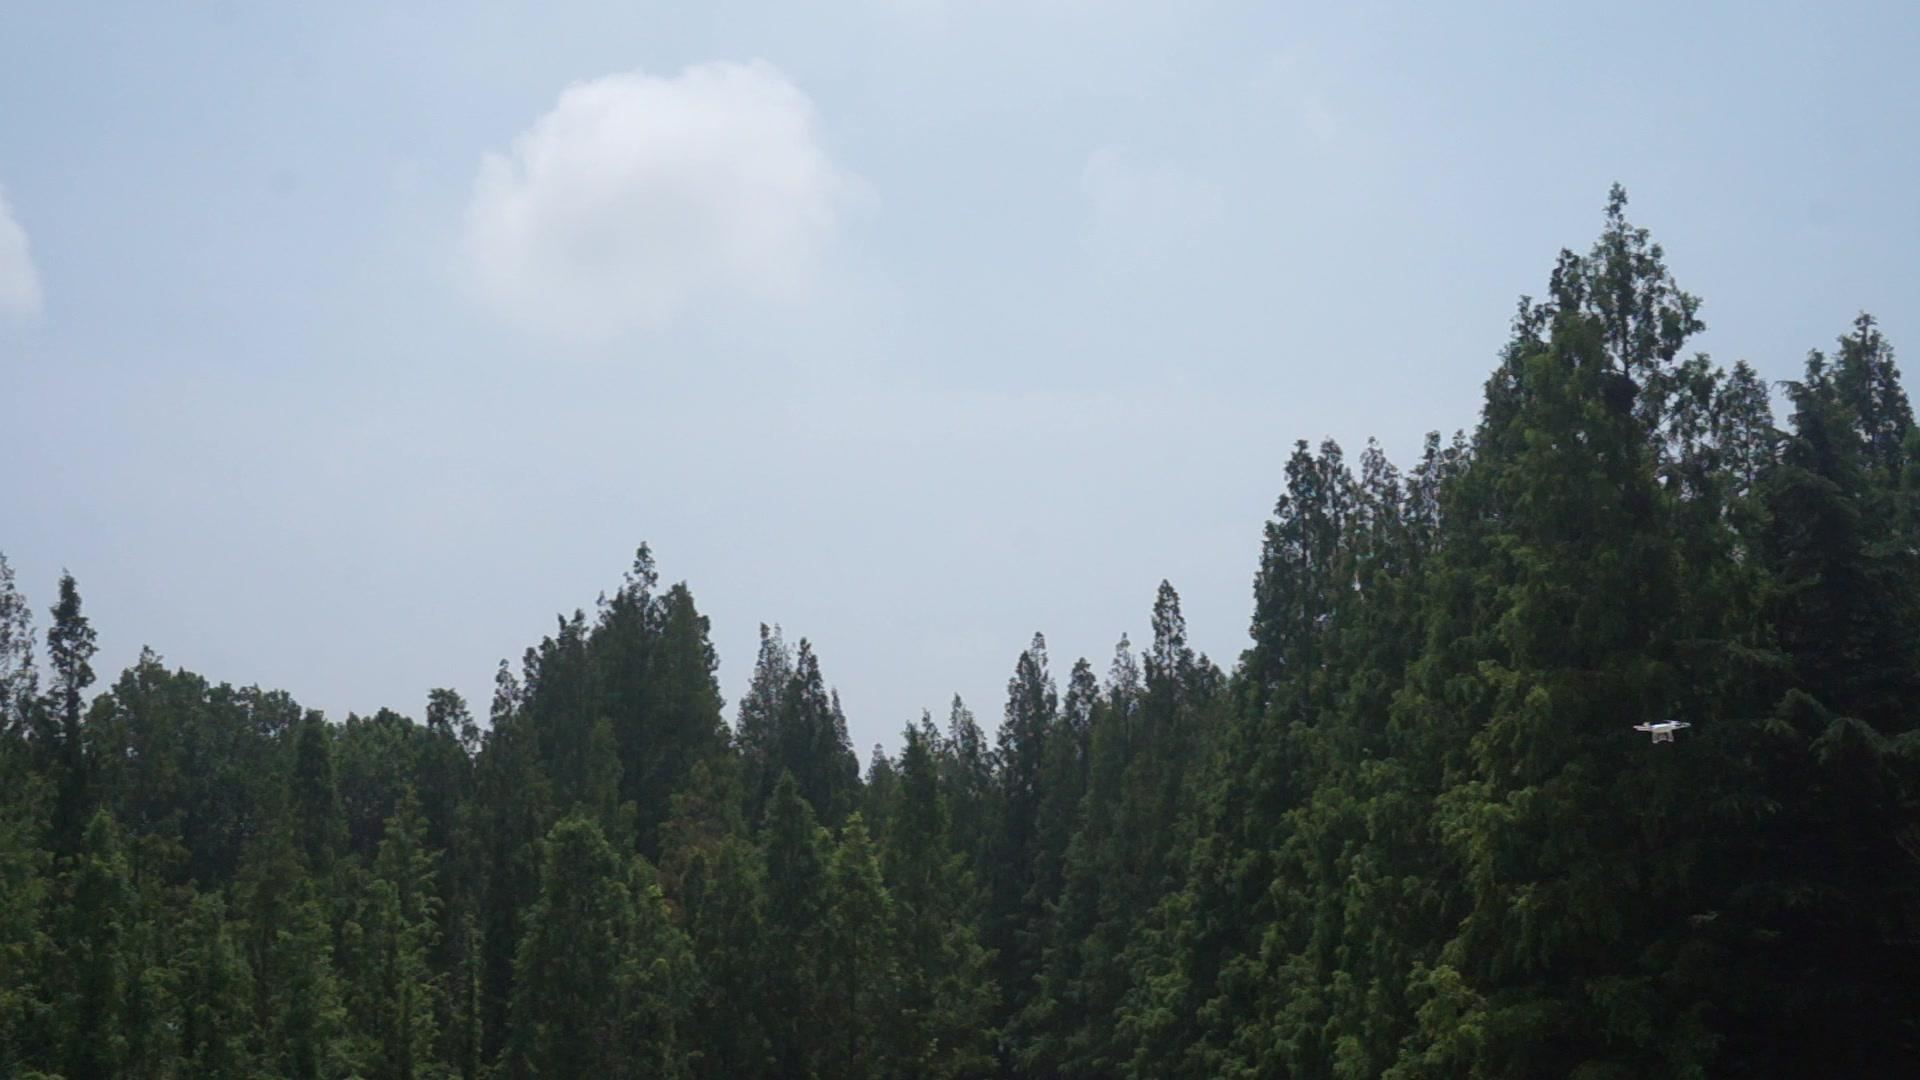UAV: (1634, 721, 1692, 745)
